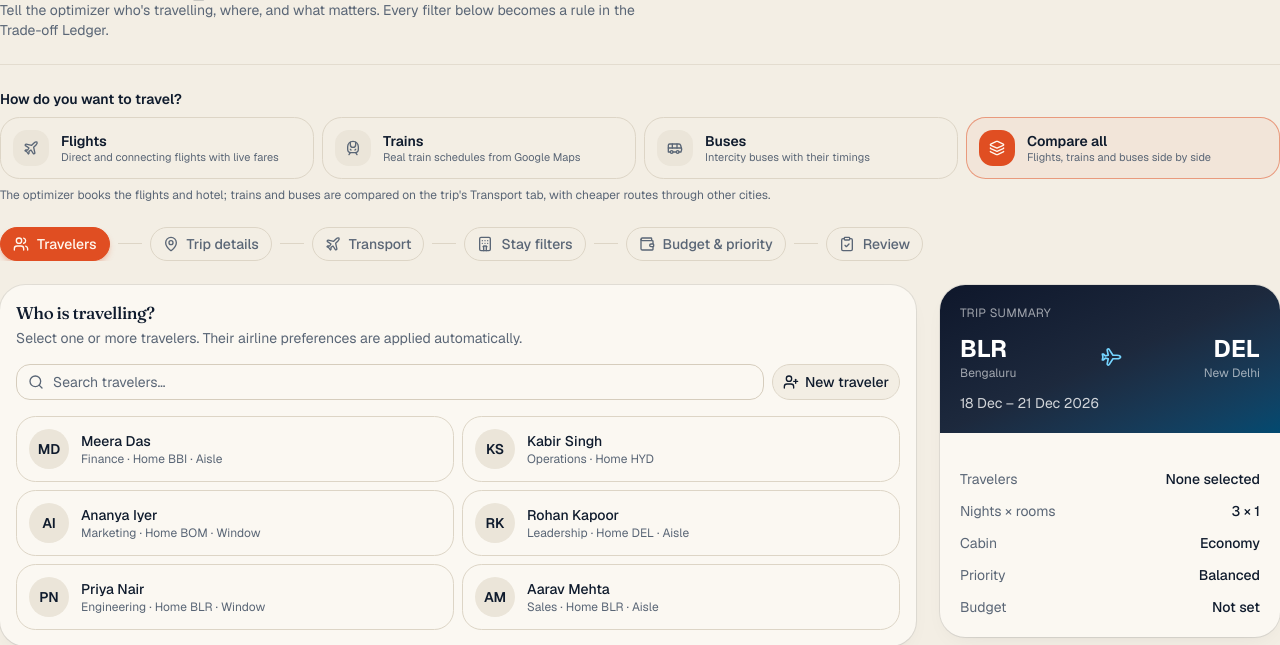
Scenario: trip request form › needs a title before the flight filters
Step 1. Click the button "PN Priya Nair Engineering · Home BLR · Window" → (235, 597), box [16, 564, 454, 630]
(page scrolled)
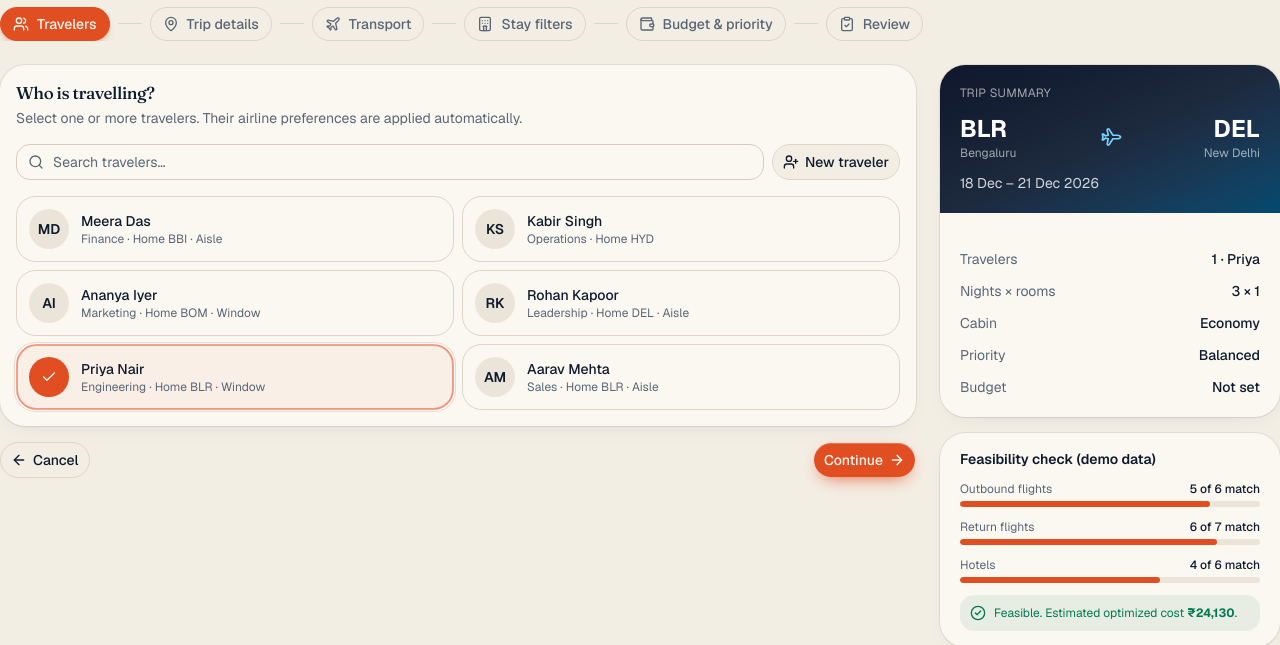
Step 2. Click the button "Continue" → (864, 460), box [813, 442, 916, 478]
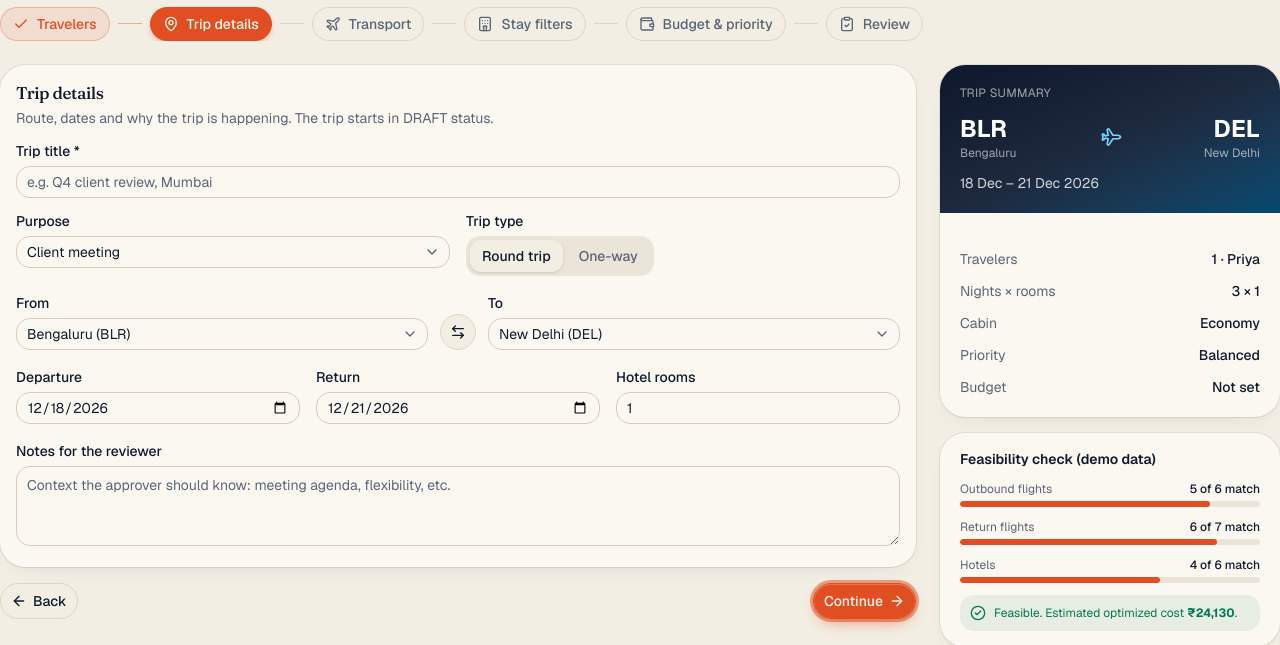
Now the field labelled "Trip title *" is shown, box [16, 166, 900, 198]
Step 3. Click the button "Continue" → (864, 601), box [813, 583, 916, 619]
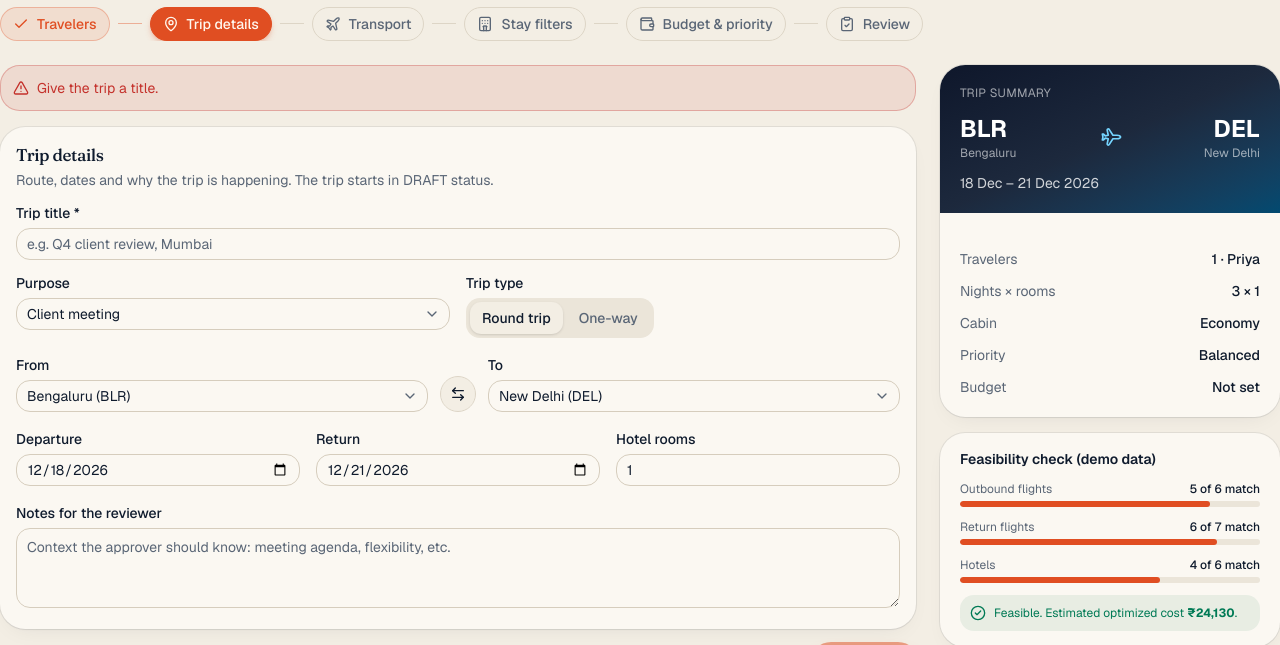
Now the message reads "Give the trip a title.", box [37, 78, 158, 96]
